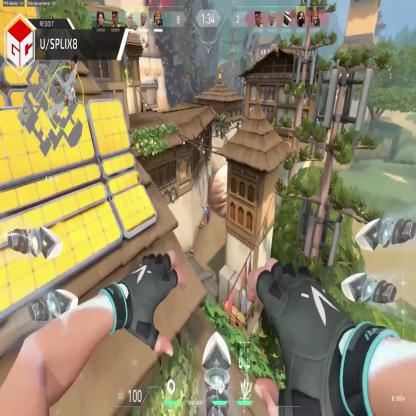enemy: (204, 202, 210, 225)
enemy_head: (206, 203, 208, 209)
